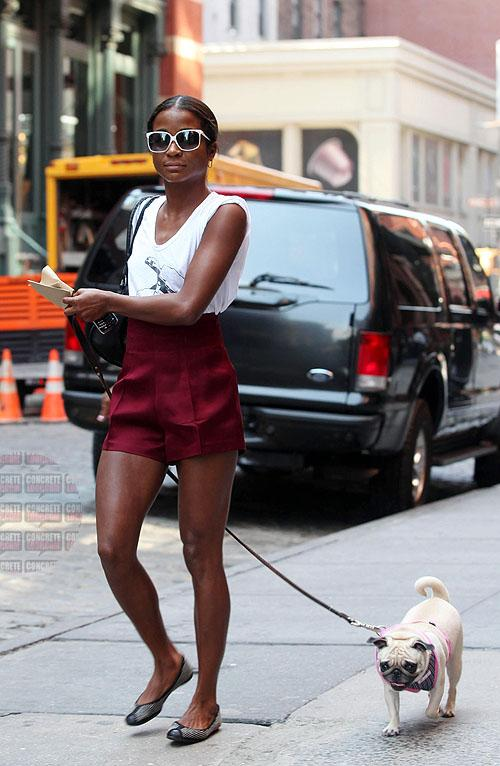person: (64, 96, 249, 743)
